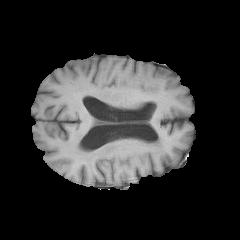glioma: (76, 136, 165, 171)
